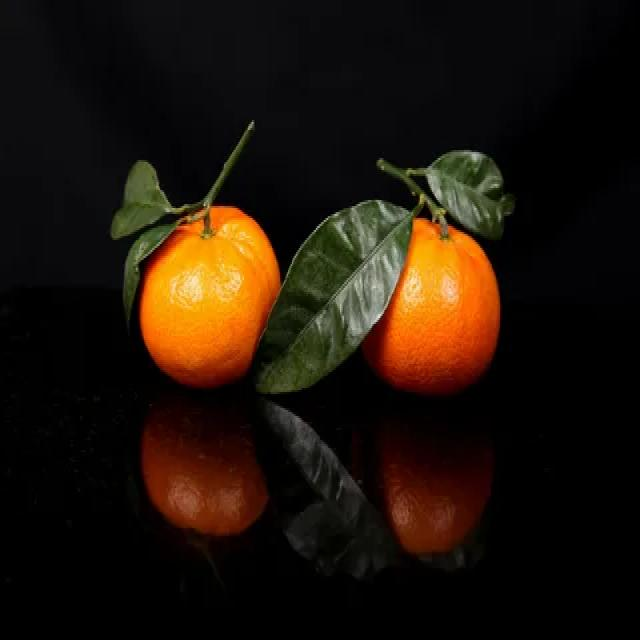orange: (137, 194, 285, 398), (356, 204, 509, 400)
